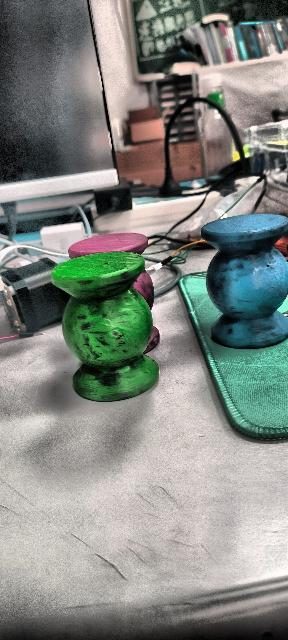blue: (200, 212, 288, 348)
green: (48, 250, 160, 402)
red: (63, 233, 166, 352)
